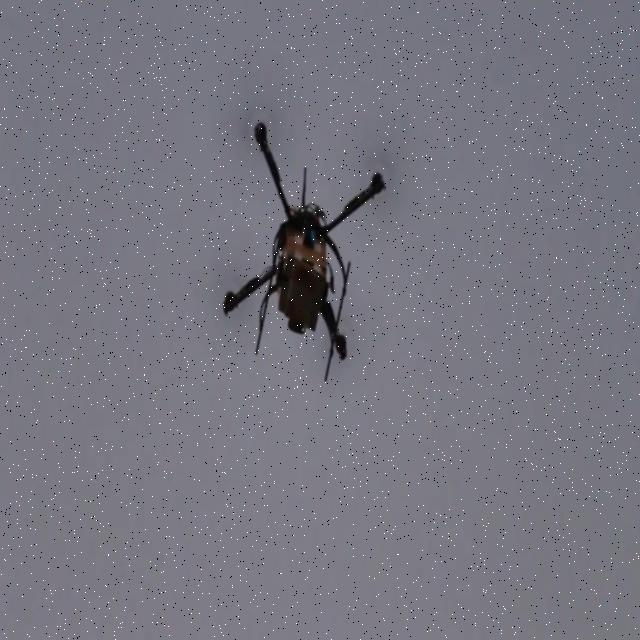UAV: (222, 121, 386, 383)
